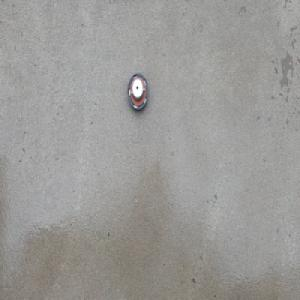FuelCap: (127, 71, 149, 111)
